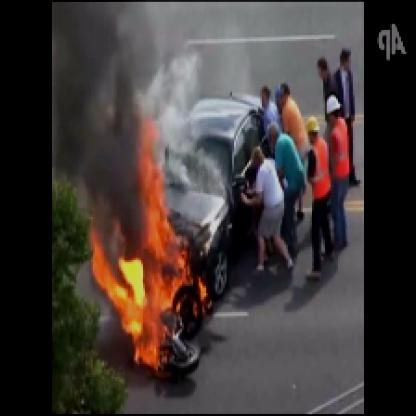Fire: (95, 119, 215, 379)
Smoke: (58, 2, 146, 223)
